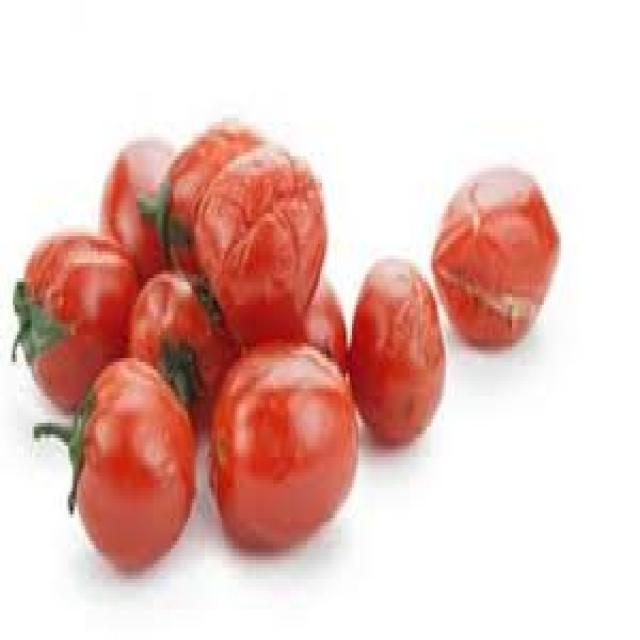damaged: (438, 132, 576, 368), (194, 138, 334, 344)
overripe: (63, 363, 195, 590), (211, 351, 358, 547), (3, 224, 136, 409), (351, 251, 450, 458)
